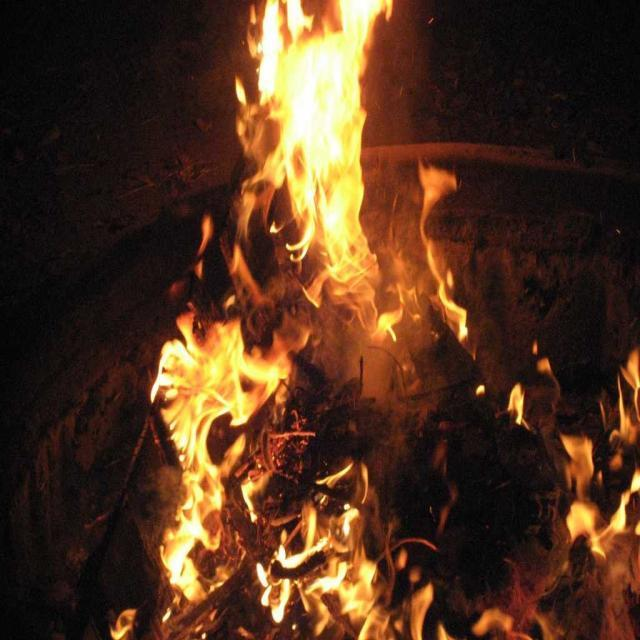Fire: (294, 55, 362, 232), (166, 342, 252, 430)
